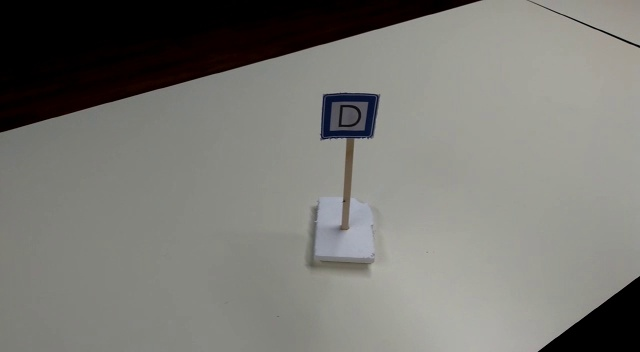durak: (322, 94, 377, 138)
